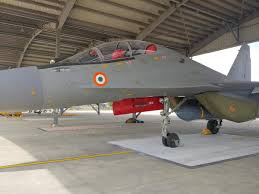maybay_muctieu: (2, 44, 259, 135)
